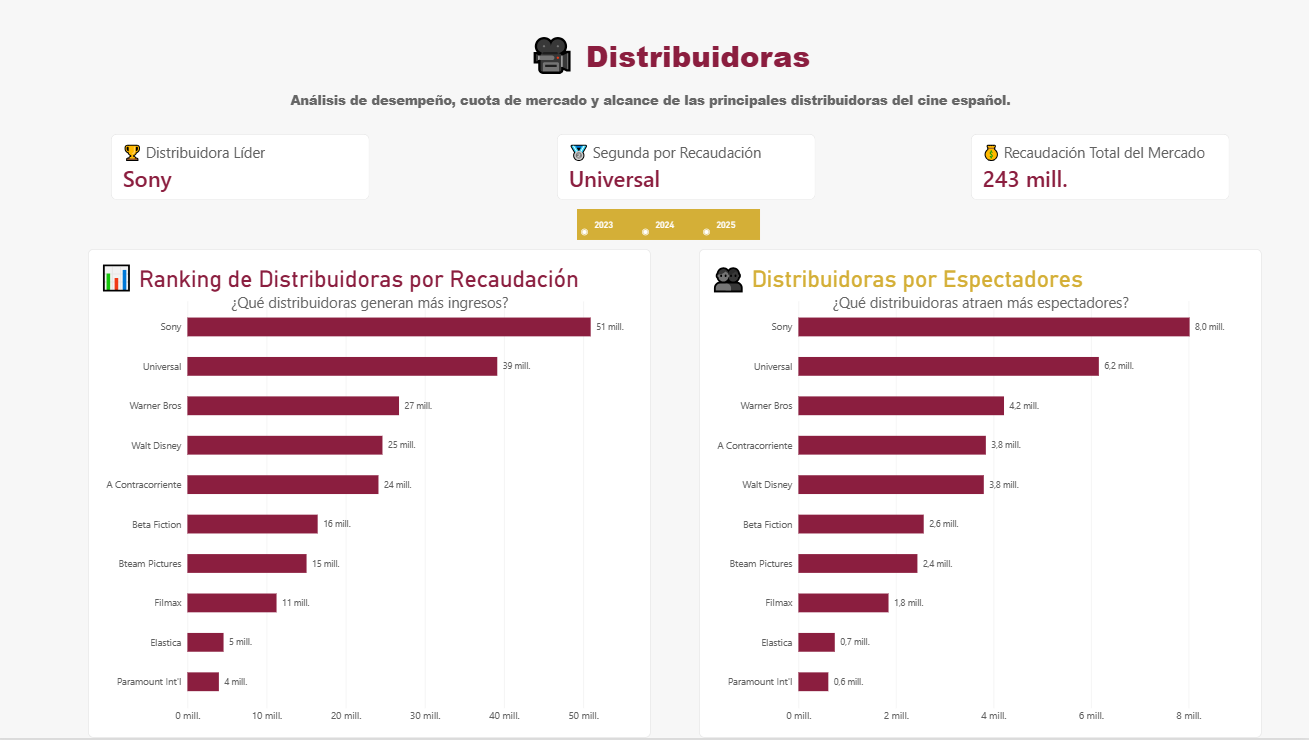

The page's visual inventory and layout, read from the dashboard file:
{"tool":"powerbi","page":{"name":"🎥 Distribuidoras","canvas":[1920,1080],"ordinal":1},"visuals":[{"type":"textbox","box":[728,48.1,519.4,74.4],"z":0},{"type":"textbox","box":[264.1,135.7,1390.4,45.2],"z":1000},{"type":"cardVisual","fields":{"Data":["Sum(taquilla_limpia.recaudacion)"]},"box":[822.9,198.4,377.9,96.3],"z":2000},{"type":"cardVisual","fields":{"Data":["Sum(taquilla_limpia.espectadores)"]},"box":[172.2,198.4,377.9,96.3],"z":3000},{"type":"cardVisual","fields":{"Data":["Sum(taquilla_limpia.recaudacion)"]},"box":[1426.9,198.4,377.9,96.3],"z":4000},{"type":"clusteredBarChart","title":"📊 Ranking de Distribuidoras por Recaudación","fields":{"Category":["taquilla_limpia.distribuidora"],"Y":["Sum(taquilla_limpia.recaudacion)"]},"box":[138.6,366.2,821.4,713.4],"z":5000},{"type":"clusteredBarChart","title":"👥 Distribuidoras por Espectadores ","fields":{"Category":["taquilla_limpia.distribuidora"],"Y":["Sum(taquilla_limpia.espectadores)"]},"box":[1030,366.2,821.4,713.4],"z":6000},{"type":"textbox","box":[138.6,428.9,821.4,42.3],"z":7000},{"type":"textbox","box":[1030,428.9,821.4,42.3],"z":8000},{"type":"advancedSlicerVisual","fields":{"Values":["taquilla_limpia.anio"]},"box":[852,307.8,269.9,45.2],"z":8001}]}

Visuals, with their boxes in screenshot pixels (x1, y1, x2, y2), scaled from the page's 1920x1080 canvas onto the 1309x740 screenshot:
textbox: detection(496, 33, 850, 84)
textbox: detection(180, 93, 1128, 124)
cardVisual - Sum(taquilla_limpia.recaudacion): detection(561, 136, 819, 202)
cardVisual - Sum(taquilla_limpia.espectadores): detection(117, 136, 375, 202)
cardVisual - Sum(taquilla_limpia.recaudacion): detection(973, 136, 1230, 202)
"📊 Ranking de Distribuidoras por Recaudación" clusteredBarChart: detection(94, 251, 654, 739)
"👥 Distribuidoras por Espectadores " clusteredBarChart: detection(702, 251, 1262, 739)
textbox: detection(94, 294, 654, 323)
textbox: detection(702, 294, 1262, 323)
advancedSlicerVisual - taquilla_limpia.anio: detection(581, 211, 765, 242)
